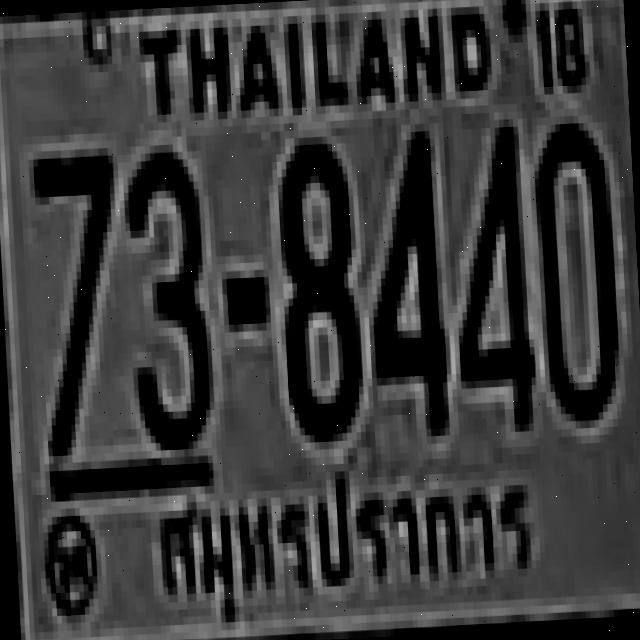0: (530, 114, 620, 414)
3: (121, 144, 212, 452)
4: (444, 119, 534, 427), (359, 124, 445, 432)
7: (28, 148, 123, 457), (28, 148, 119, 373)
8: (270, 136, 360, 436)
SamutPrakan: (146, 474, 549, 622)
